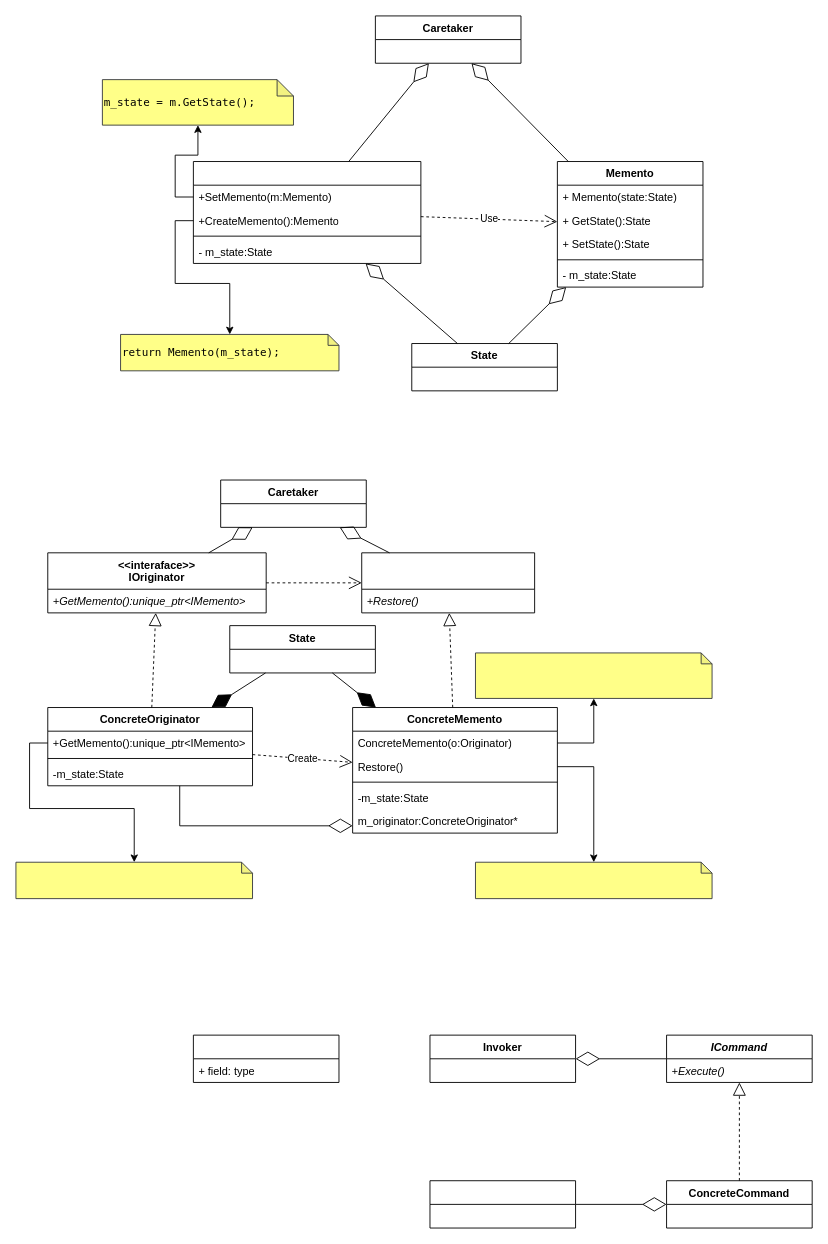
Image size: 828x1244. Some labels were removed from this diagram. The box of each missing label's shape, as (x1, y1, x2, y2) in pixels:
<<interaface>> IMemento: (361, 552, 535, 613)
Client: (192, 1034, 339, 1082)
m_originator = o; m_state = m_originator->m_state;: (475, 652, 712, 698)
m_originator->m_state = m_state;: (475, 861, 712, 899)
Originator: (192, 161, 421, 263)
Receiver: (429, 1180, 576, 1228)
return make_unique<Memento>(this);: (15, 861, 253, 899)
